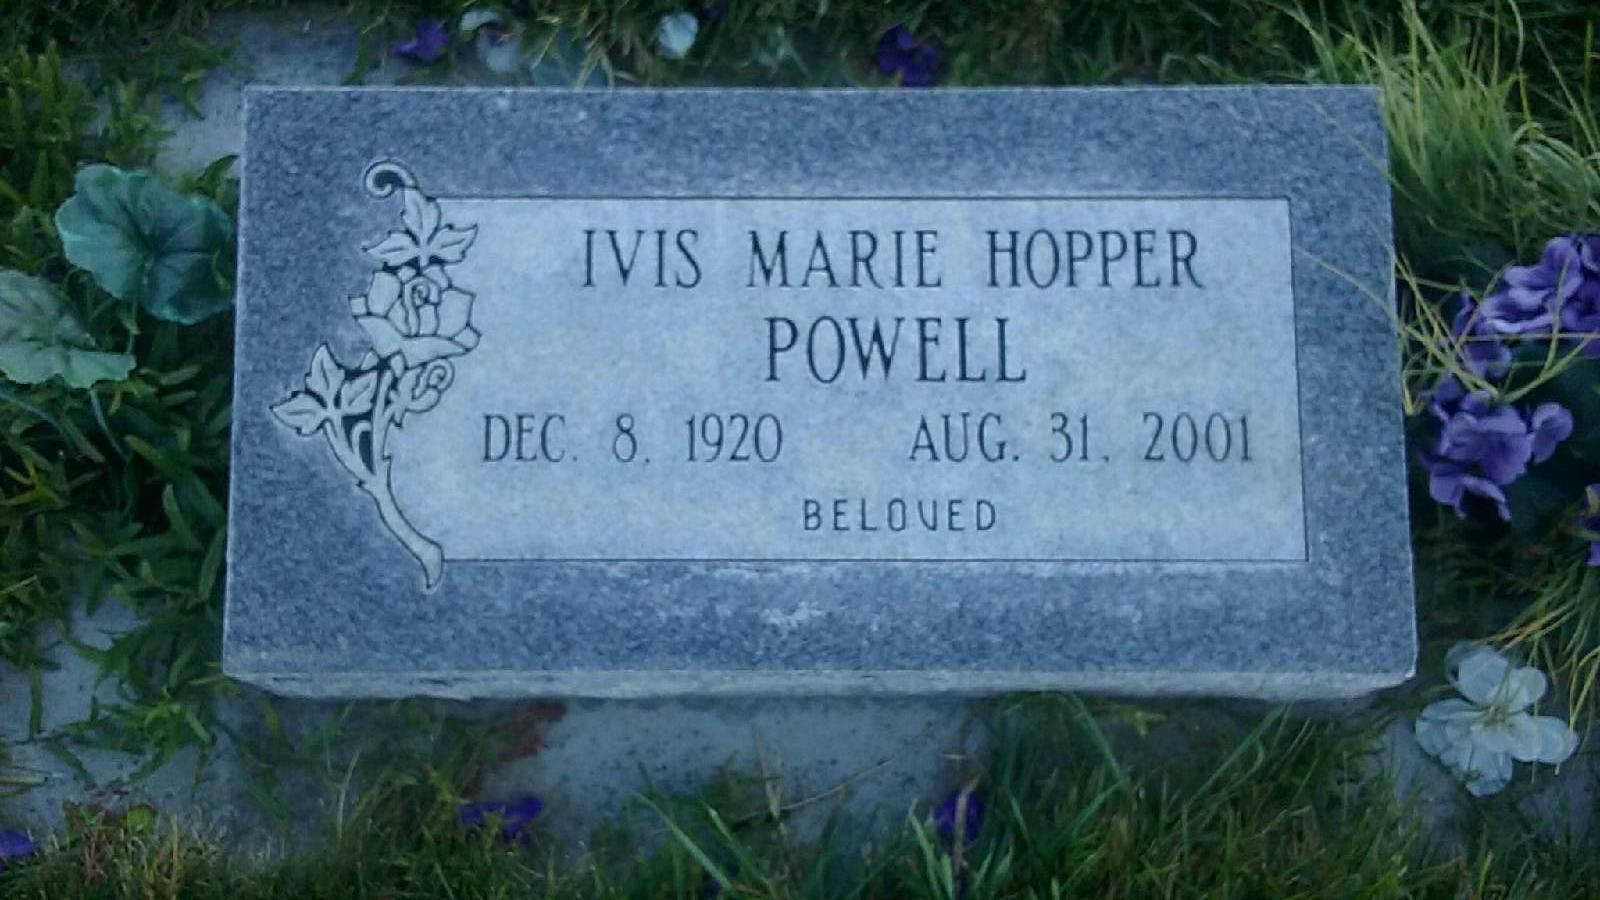flat: (215, 68, 1424, 702)
